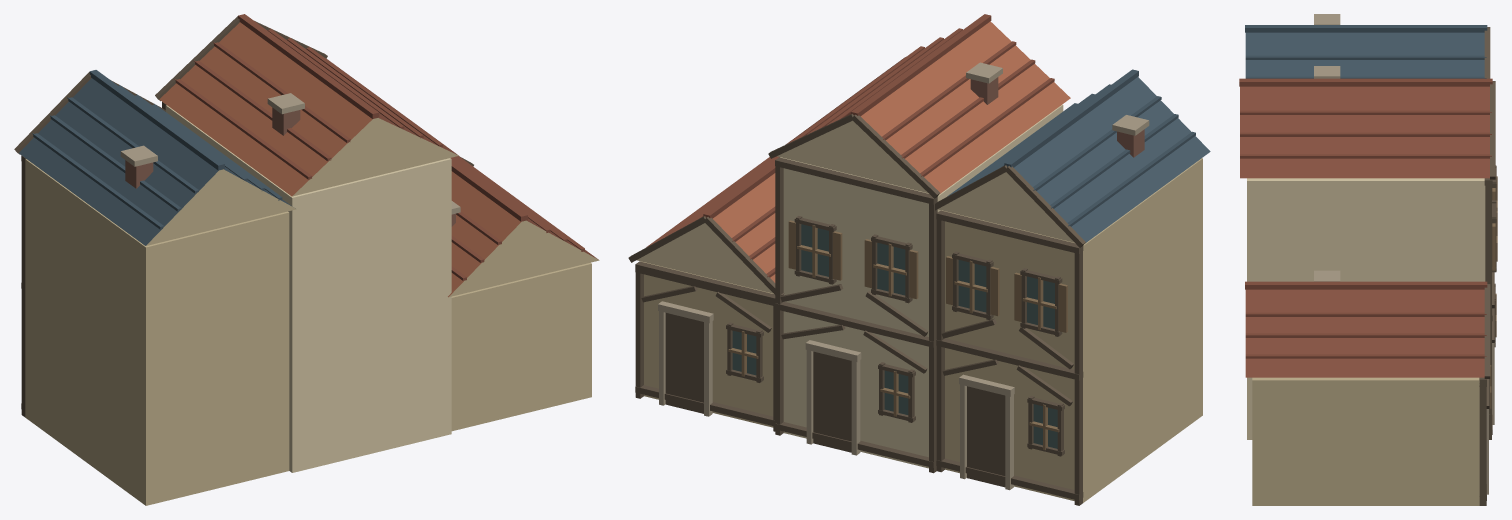
File: WalkTown_RowC.fbx
3 renders of one model, left to right at view 1: azimuth 30°, elevation 25°; view 2: azimuth 150°, elevation 25°; view 3: azimuth 270°, elevation 25°, orthographic. The views are drawn at different scales.
Visible parts, largest first — view 1: WalkTown_RowC; view 2: WalkTown_RowC; view 3: WalkTown_RowC.
Part boxes in pixels (x1,y1,x2,y2): WalkTown_RowC: [14, 14, 599, 505]; WalkTown_RowC: [628, 14, 1210, 505]; WalkTown_RowC: [1239, 14, 1497, 505].
Size of the model in its own units: 11.48 by 8.23 by 5.96.
